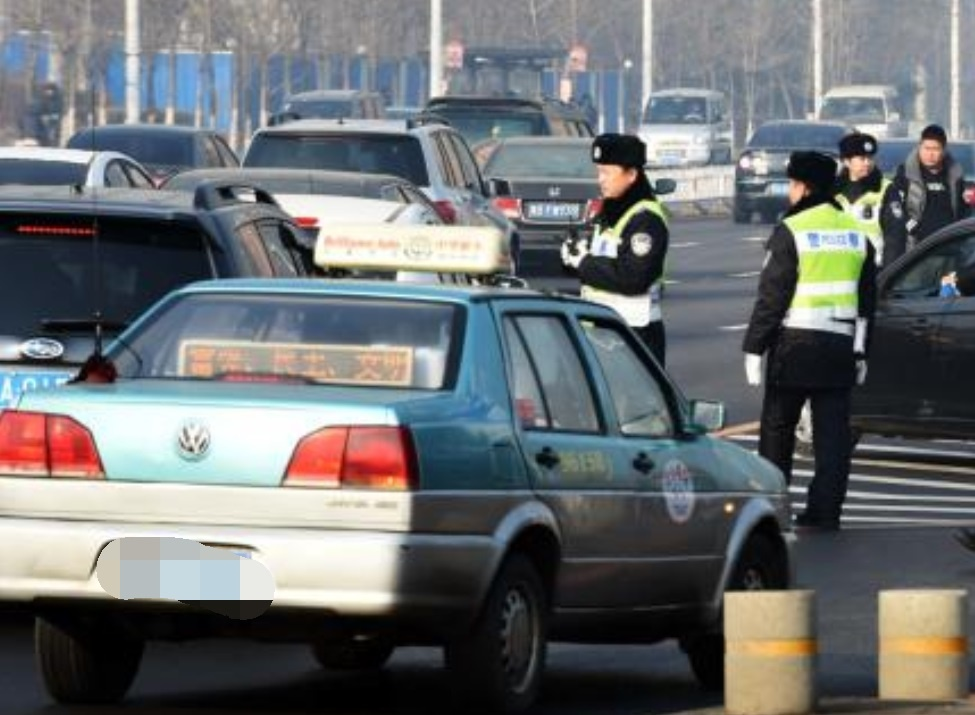family sedan: (451, 130, 638, 253)
minibus: (627, 85, 732, 167)
taxi: (11, 255, 815, 700)
